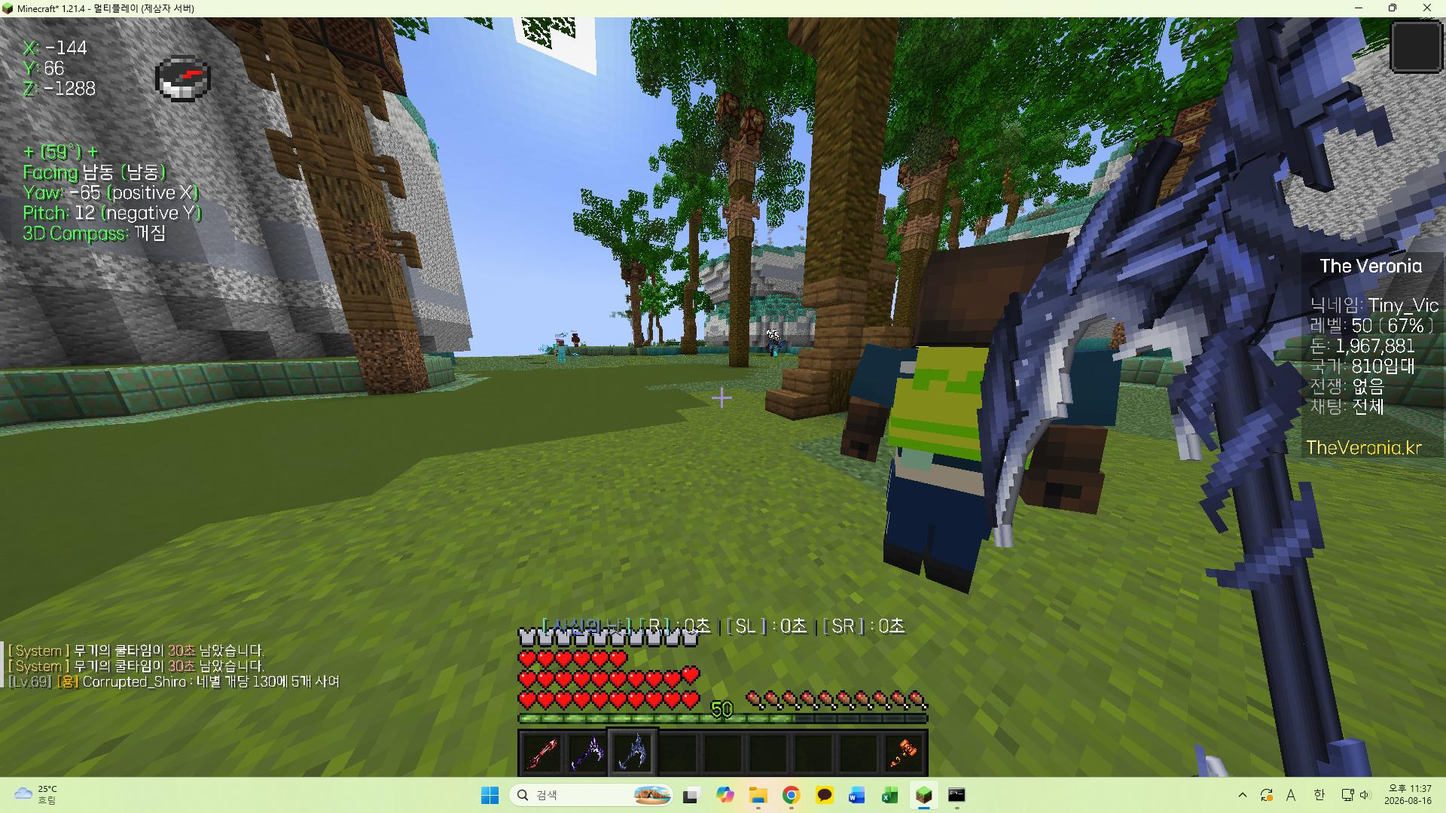Guardian: (840, 234, 1067, 592), (1025, 354, 1118, 511)
